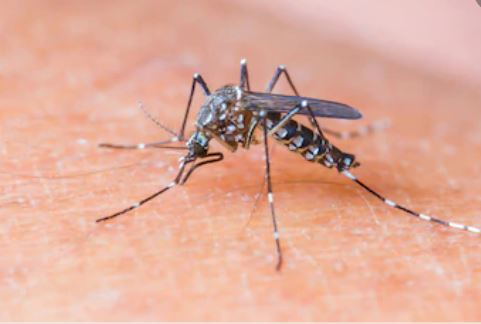dengue_mosquito: (121, 58, 448, 225)
